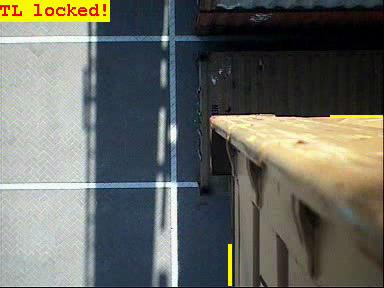groundmarker_2: (137, 77, 193, 107), (139, 229, 195, 258)
